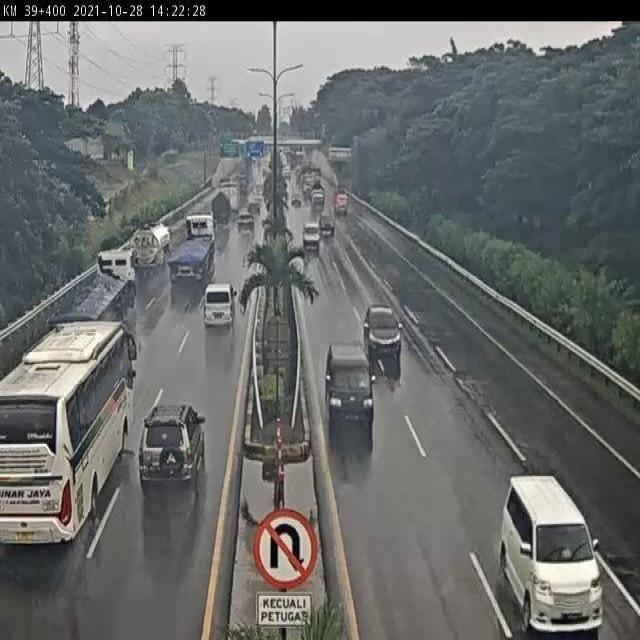bus-l-: (0, 317, 135, 548)
car: (497, 473, 603, 636), (136, 401, 207, 488), (201, 281, 236, 331), (234, 209, 257, 236)
truck-m-: (129, 219, 173, 272)
truck-s-: (209, 194, 234, 238)
truck-xl-: (35, 249, 135, 348), (168, 214, 216, 282)
